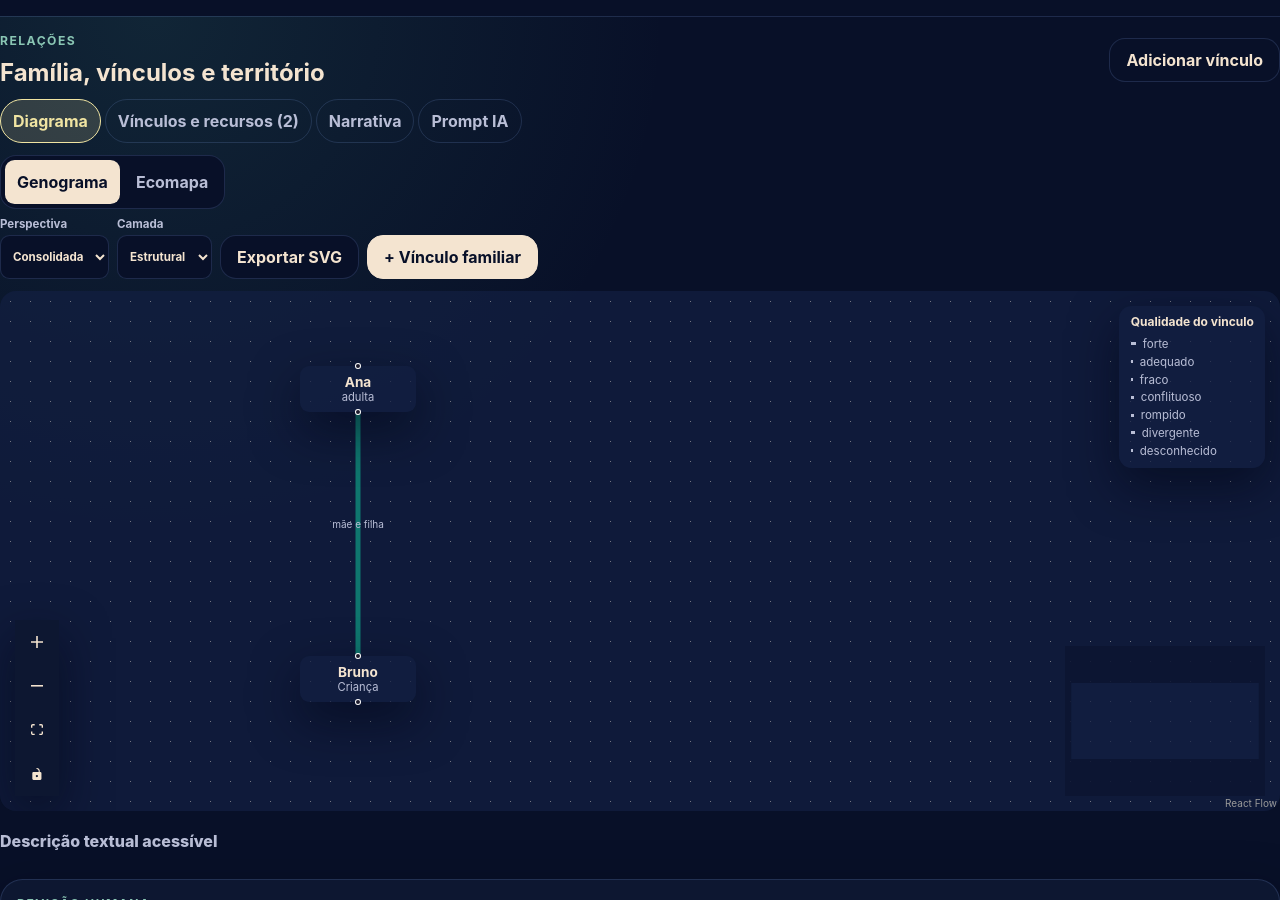
it: interacoes do diagrama › oferece criar vinculo familiar junto ao diagrama
The image size is (1280, 900).
Expected: the text "Ana" is shown, [345,374,371,390]
What coordinates should you click on to do the following:
click the button "+ Vínculo familiar"
I would click on:
 (452, 257)
Its box is [367,235,538,279].
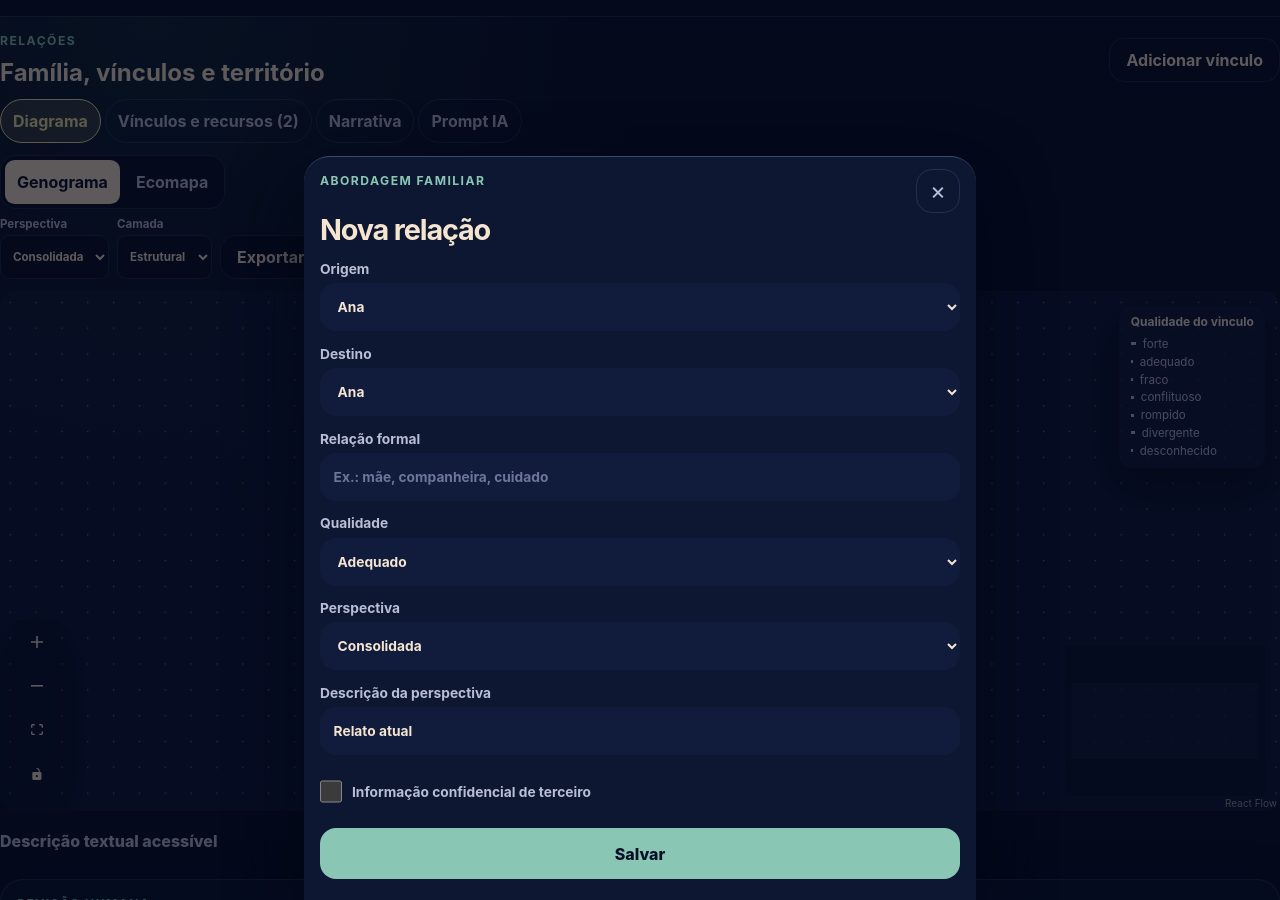
Expected: the dialog is shown, [304,156,976,899]
Expected: the text "Abordagem familiar" is shown, [320,173,486,188]
